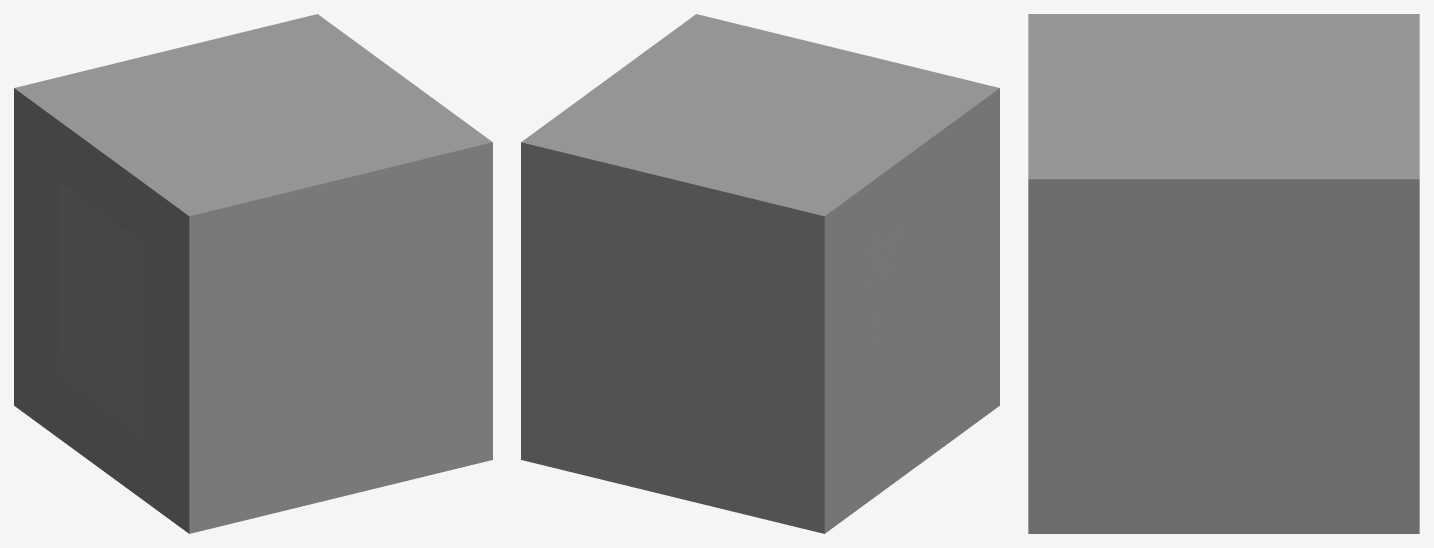
Rendered from advancedenergymeter.obj.
3 renders of one model, left to right at view 1: azimuth 30°, elevation 25°; view 2: azimuth 150°, elevation 25°; view 3: azimuth 270°, elevation 25°, orthographic. The views are drawn at different scales.
Visible parts, largest first — view 1: Minecraft_Block_Cube, Minecraft_2_Edge_Connectivity_Cube.002, Base; view 2: Minecraft_Block_Cube, Minecraft_2_Edge_Connectivity_Cube.002; view 3: Minecraft_Block_Cube.
Part boxes in pixels (bbox=[...]): Minecraft_Block_Cube: bbox=[14, 14, 492, 533]; Minecraft_2_Edge_Connectivity_Cube.002: bbox=[14, 88, 339, 533]; Base: bbox=[58, 180, 145, 441]; Minecraft_Block_Cube: bbox=[521, 14, 999, 533]; Minecraft_2_Edge_Connectivity_Cube.002: bbox=[674, 88, 999, 533]; Minecraft_Block_Cube: bbox=[1028, 14, 1419, 533].
Size of the model in its own units: 1 by 1 by 1.
3 materials, 2 textured.
